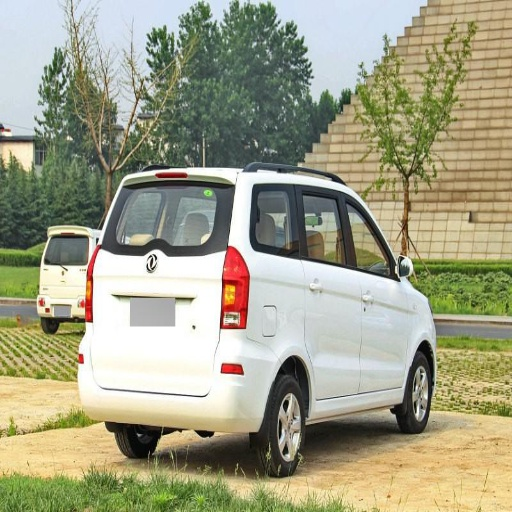back_bumper: (78, 323, 278, 432)
back_right_door: (251, 181, 362, 400)
trunk: (87, 247, 229, 393)
